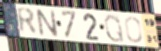2: (81, 11, 103, 42)
7: (60, 9, 79, 40)
N: (34, 8, 61, 39)
O: (124, 15, 144, 44)
Q: (103, 13, 126, 44)
R: (15, 6, 40, 36)
